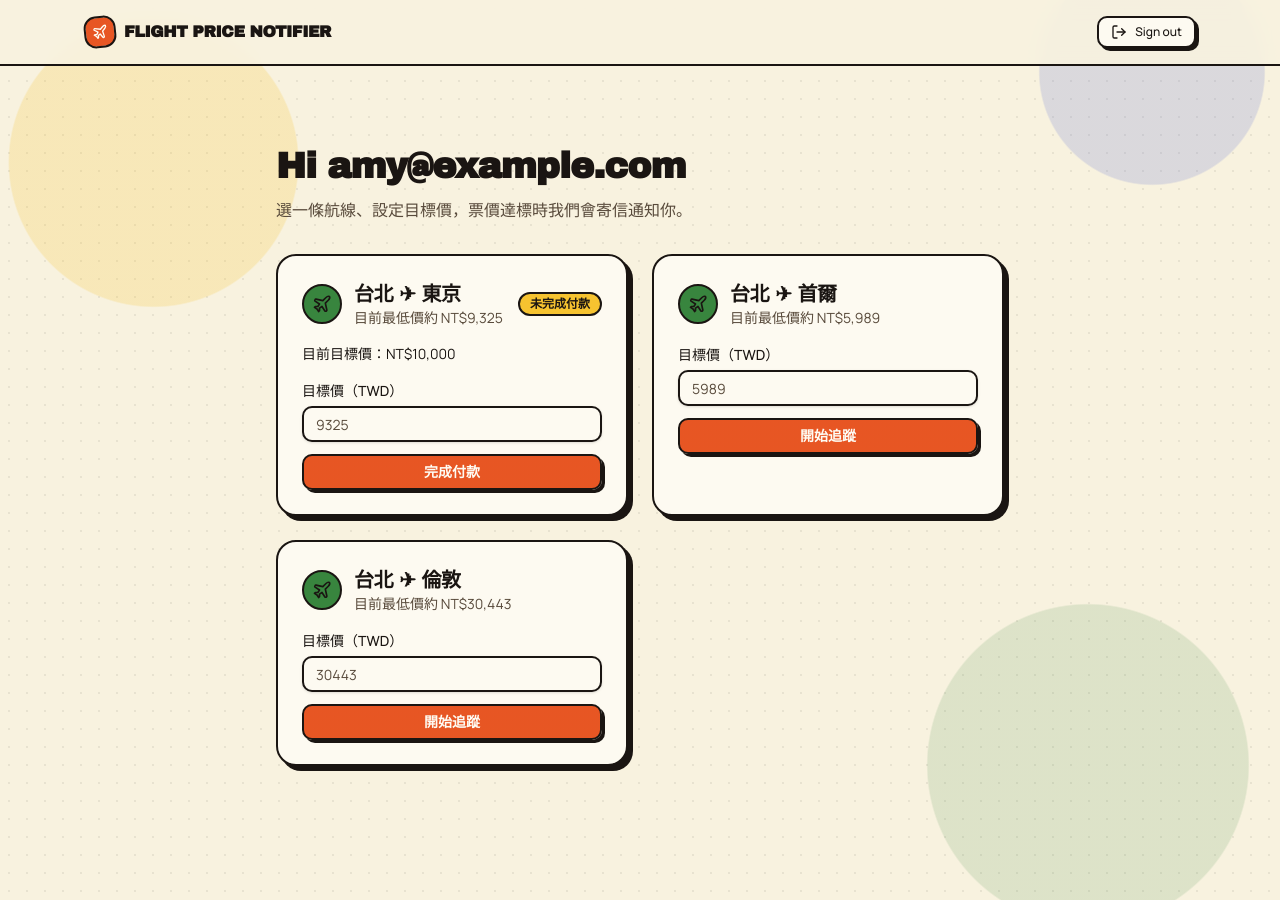
Test: Dashboard subscribed state › 完成付款 shows an error when the API answers without a checkout page
Click the button "完成付款".
click(452, 472)  # box [302,454,602,490]
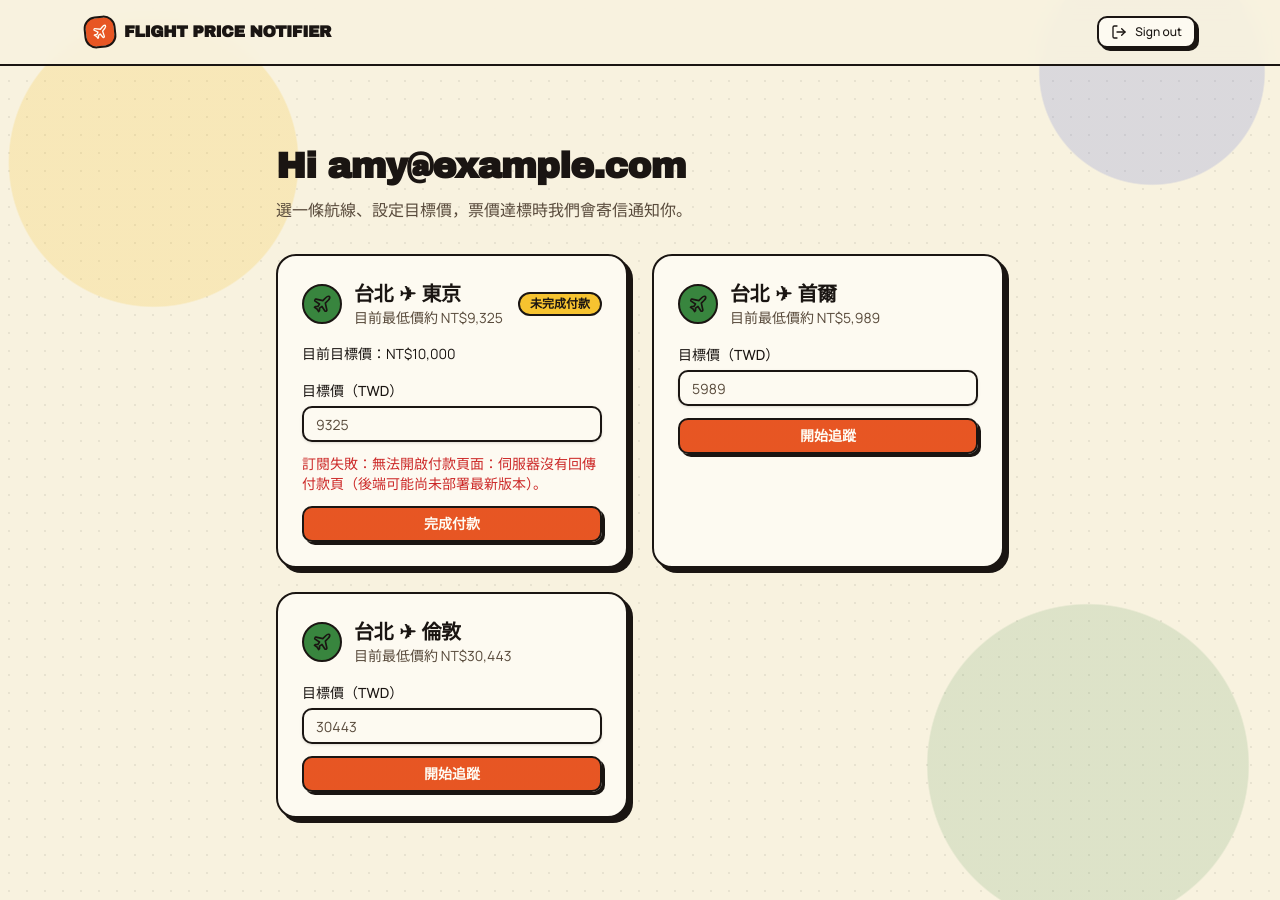
Expected: the message shows "無法開啟付款頁面", [302,454,596,493]
